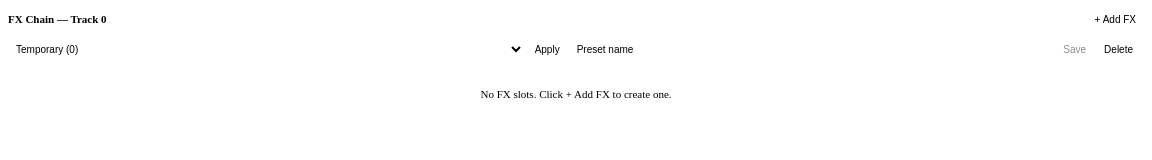
Scenario: FXChain › preset management › clears a deleted selection when the follow-up list refresh fails
This screenshot has width=1152, height=160.
Click the button "Delete".
click(1119, 49)  # box 1097,38 -> 1140,60
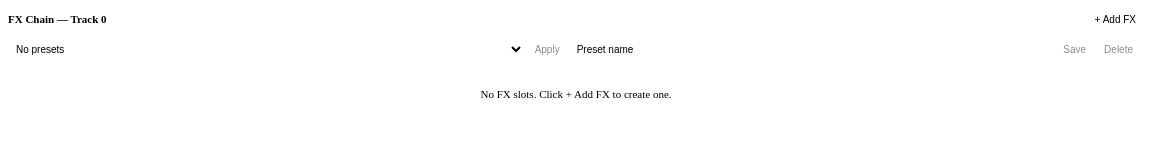
Expected: the field named "FX chain preset name" is enabled, 571,38 -> 1052,60
Now the dropdown titled "FX chain presets" shows "No presets", box 12,38 -> 524,60
